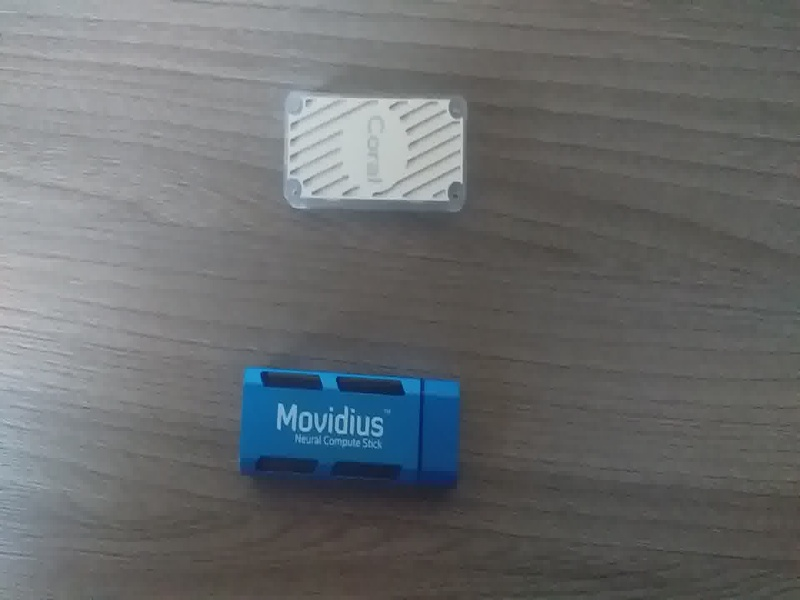coral: (272, 84, 481, 221)
movidius: (228, 356, 487, 500)
